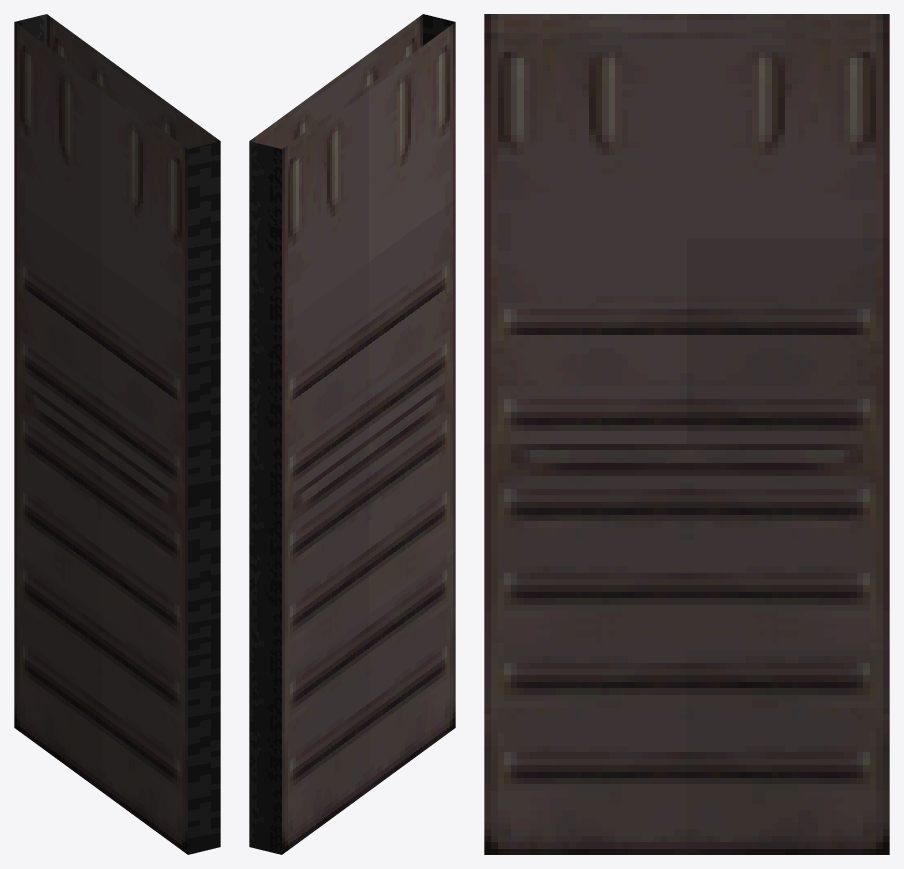
The model's file is primary_259.glb.
3 renders of one model, left to right at view 1: azimuth 30°, elevation 25°; view 2: azimuth 150°, elevation 25°; view 3: azimuth 270°, elevation 25°, orthographic. The views are drawn at different scales.
Visible parts, largest first — view 1: Object; view 2: Object; view 3: Object.
Part boxes in pixels (<box>): Object: <box>14,14,220,854</box>; Object: <box>249,14,455,854</box>; Object: <box>484,14,889,854</box>.
Size of the model in its own units: 0.1312 by 2.71 by 1.21.
16 materials, 16 textured.
